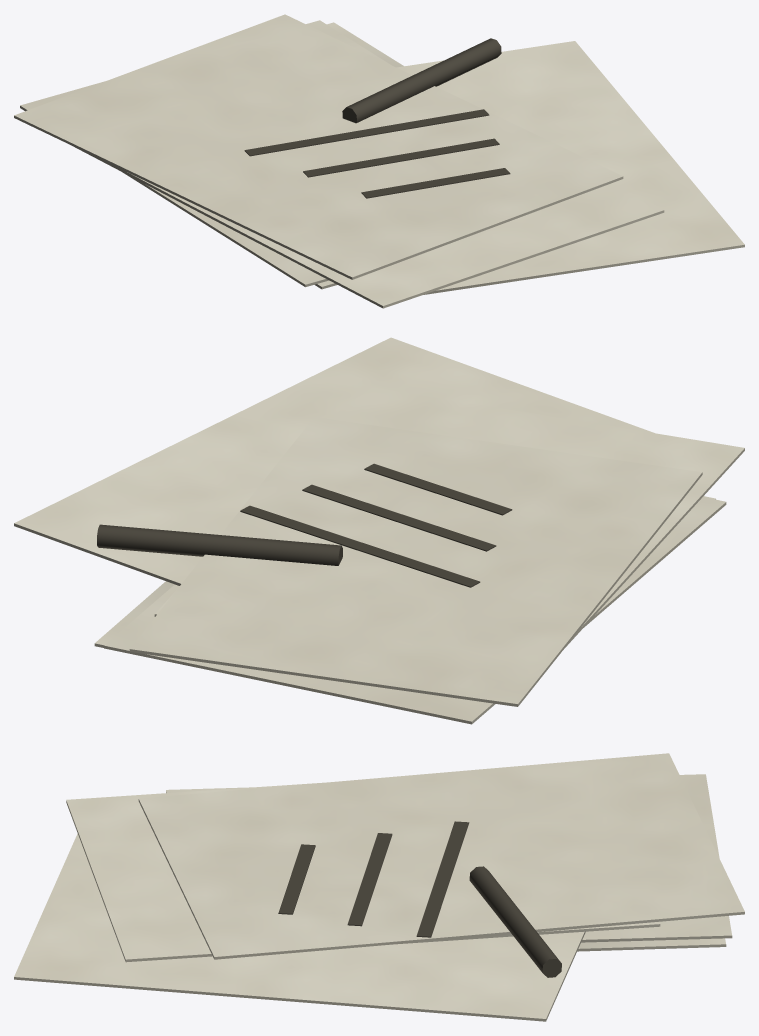
Rendered from papers.glb.
3 views of the same model, one above another, from view 1: azimuth 30°, elevation 25°; view 2: azimuth 150°, elevation 25°; view 3: azimuth 270°, elevation 25° (orthographic). The views are drawn at different scales.
Parts seen in each view (by area): view 1: papers; view 2: papers; view 3: papers.
Part boxes in pixels (bbox=[...]): papers: bbox=[14, 14, 744, 308]; papers: bbox=[14, 337, 744, 724]; papers: bbox=[14, 753, 744, 1021].
Size of the model in its own units: 0.3374 by 0.0172 by 0.4011.
2 materials, 1 textured.
